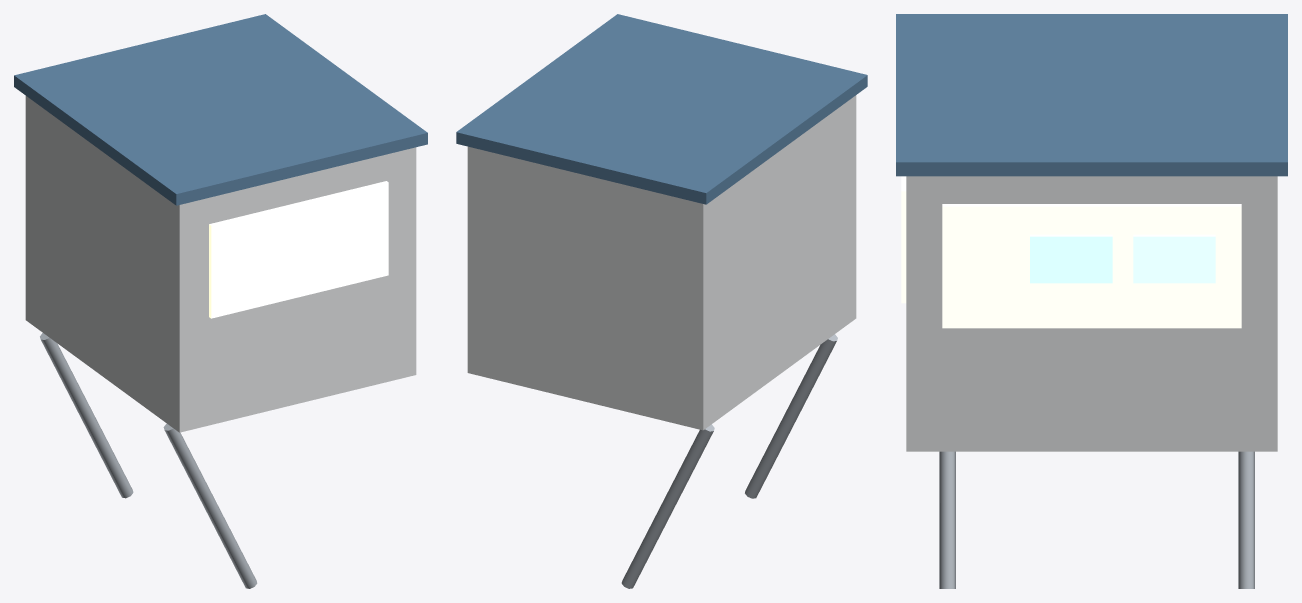
Rendered from robotcabin.glb.
3 views of the same model, side by side, from view 1: azimuth 30°, elevation 25°; view 2: azimuth 150°, elevation 25°; view 3: azimuth 270°, elevation 25° (orthographic). The views are drawn at different scales.
Bounding box in the file's own units: 3.41 × 5.58 × 3.8.
